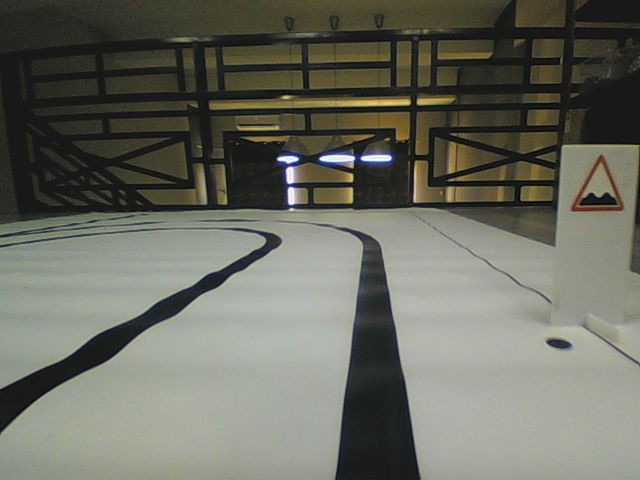Nerov: (570, 153, 626, 213)
